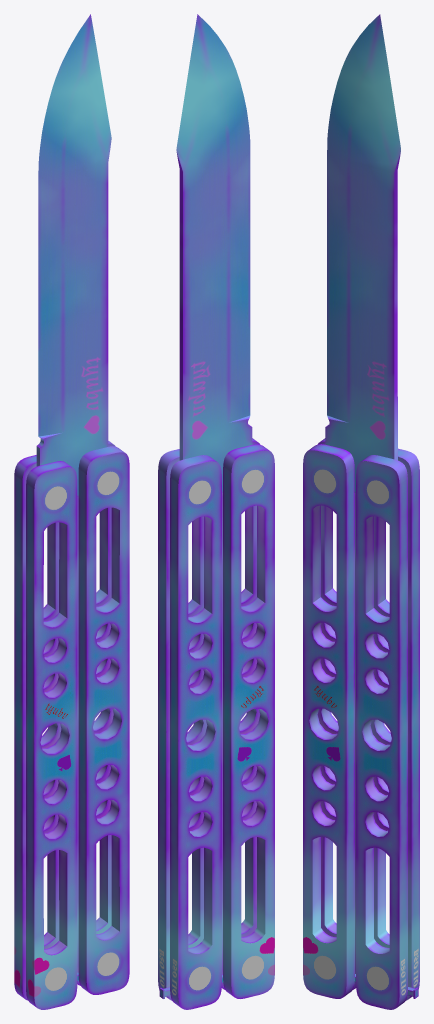
The model's file is butterfly_knife.glb.
3 views of the same model, side by side, from view 1: azimuth 30°, elevation 25°; view 2: azimuth 210°, elevation 25°; view 3: azimuth 330°, elevation 25° (orthographic).
Parts seen in each view (by area): view 1: Box001, Box004, Box010, Box013, Box012; view 2: Box001, Box012, Box013, Box004, Box010; view 3: Box001, Box004, Box010, Box012, Box013.
Part boxes in pixels (<box>): Box001: <box>36,14,111,496</box>; Box004: <box>78,446,129,994</box>; Box010: <box>26,461,77,1009</box>; Box013: <box>14,455,61,1000</box>; Box012: <box>77,441,114,985</box>; Box001: <box>176,14,252,492</box>; Box012: <box>170,455,221,1009</box>; Box013: <box>223,444,274,998</box>; Box004: <box>158,449,207,1000</box>; Box010: <box>221,438,260,989</box>; Box001: <box>325,14,400,492</box>; Box004: <box>356,455,407,1009</box>; Box010: <box>303,444,354,998</box>; Box012: <box>370,448,419,1000</box>; Box013: <box>317,438,356,989</box>.
Size of the model in its own units: 0.1225 by 1.12 by 0.0417.
1 material, 1 textured.
